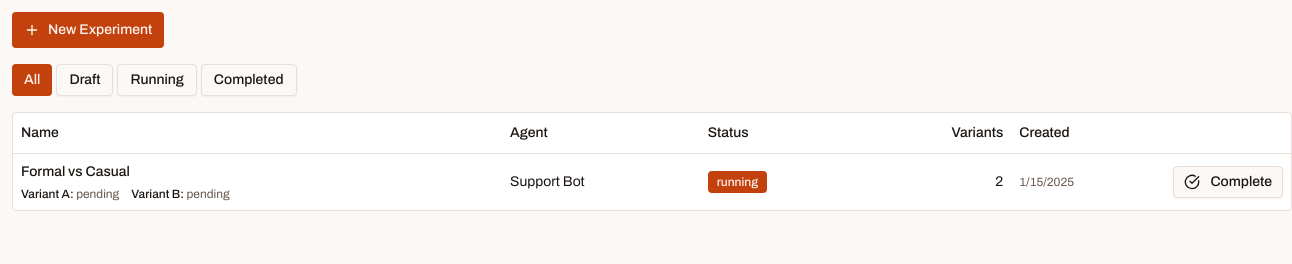
Test: ExperimentsList › Complete action › shows error message when complete fails
Click the button "Complete": (1228,182) [1173,166,1283,198]
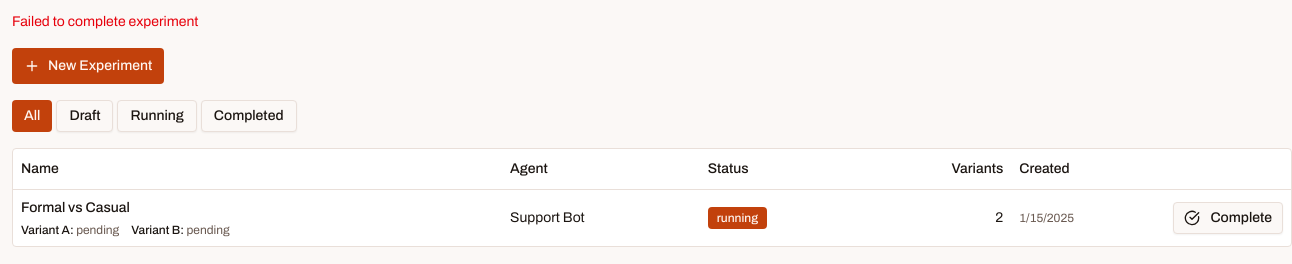
Check: the text "Failed to complete experiment" is shown, box [12,14,198,29]
